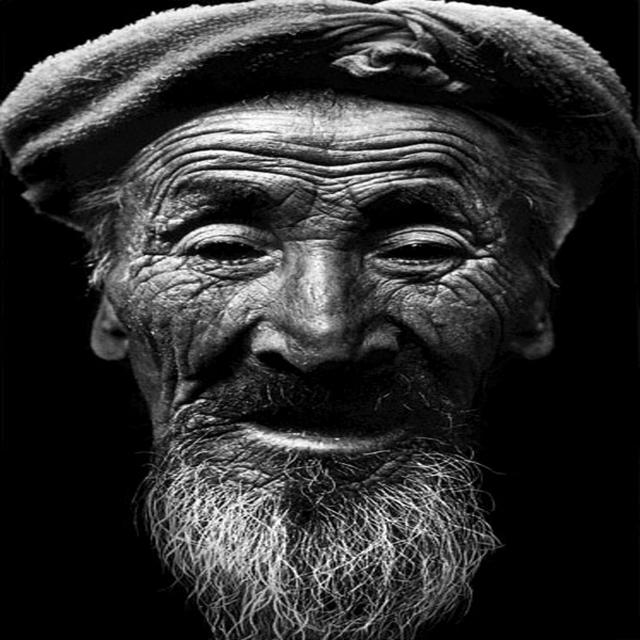earlobe: (86, 325, 132, 364), (515, 322, 558, 363)
eye: (370, 240, 464, 264), (186, 240, 265, 263)
nose: (254, 356, 401, 406)
